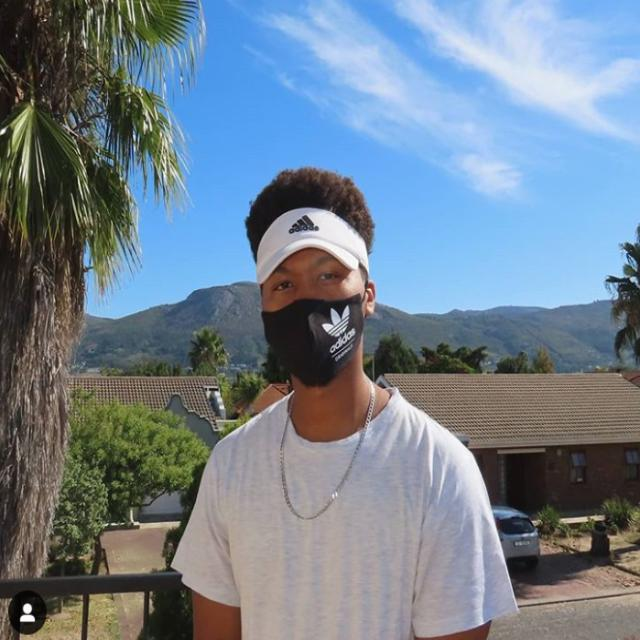hat: (252, 209, 371, 291)
